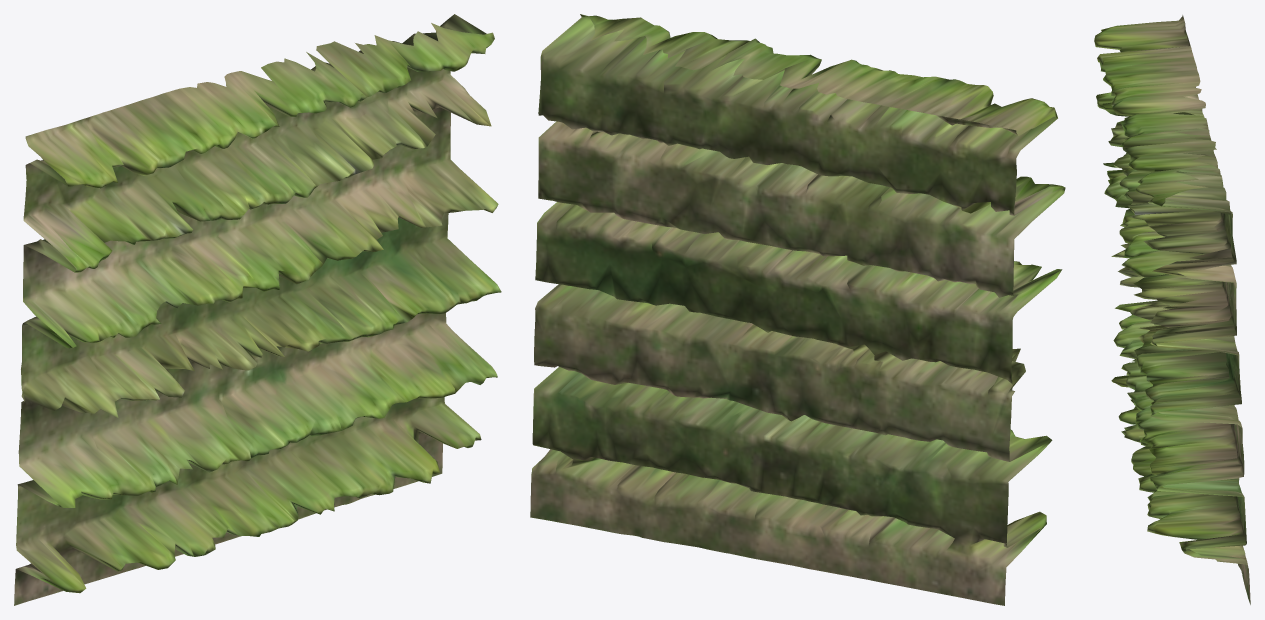
File: map_80_40.obj
3 renders of one model, left to right at view 1: azimuth 30°, elevation 25°; view 2: azimuth 150°, elevation 25°; view 3: azimuth 270°, elevation 25°, orthographic. The views are drawn at different scales.
Visible parts, largest first — view 1: map_80_40.obj; view 2: map_80_40.obj; view 3: map_80_40.obj.
Boxes of the visible parts, <box> form: map_80_40.obj: <box>14,14,501,605</box>; map_80_40.obj: <box>530,14,1065,605</box>; map_80_40.obj: <box>1094,15,1250,604</box>.
Size of the model in its own units: 10 by 10 by 3.51.
Materials: 1 (1 with a texture image).
